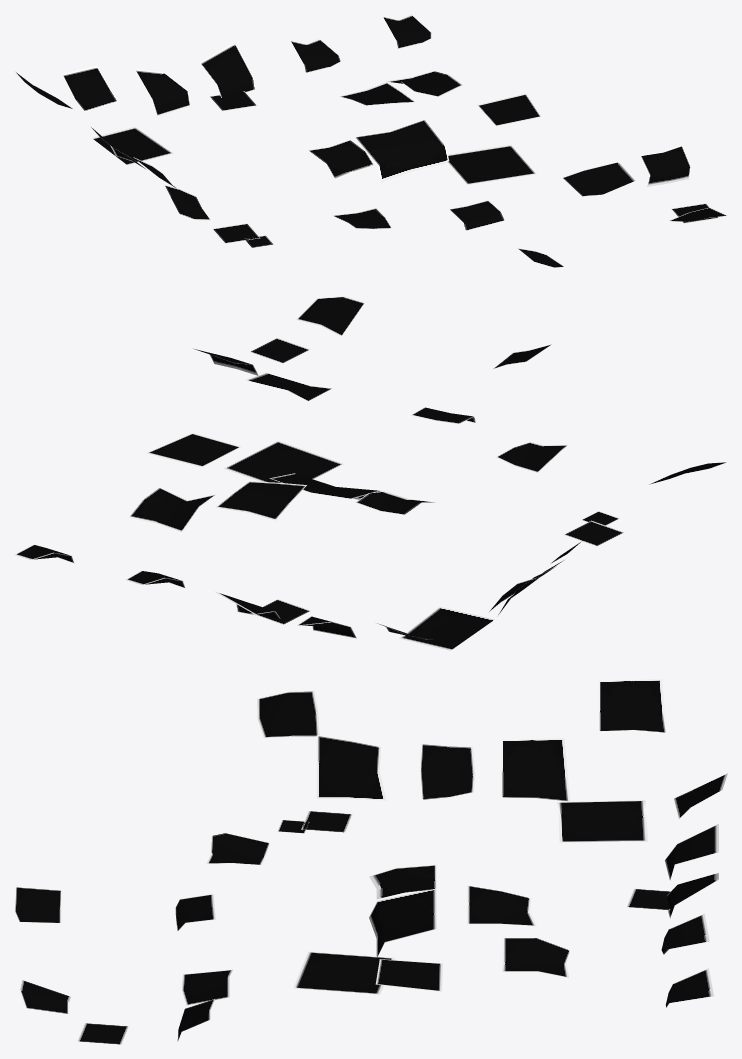
The model's file is field_shadow.fbx.
The picture shows the model from 3 angles, top to bottom: view 1: azimuth 30°, elevation 25°; view 2: azimuth 150°, elevation 25°; view 3: azimuth 270°, elevation 25°; orthographic projection. The views are drawn at different scales.
Parts seen in each view (by area): view 1: polySurface9; view 2: polySurface9; view 3: polySurface9.
Boxes of the visible parts, left/top/right/bottom form: polySurface9: left=14, top=14, right=727, bottom=267; polySurface9: left=14, top=296, right=726, bottom=650; polySurface9: left=14, top=679, right=727, bottom=1044.
Size of the model in its own units: 3394 by 549 by 3649.
